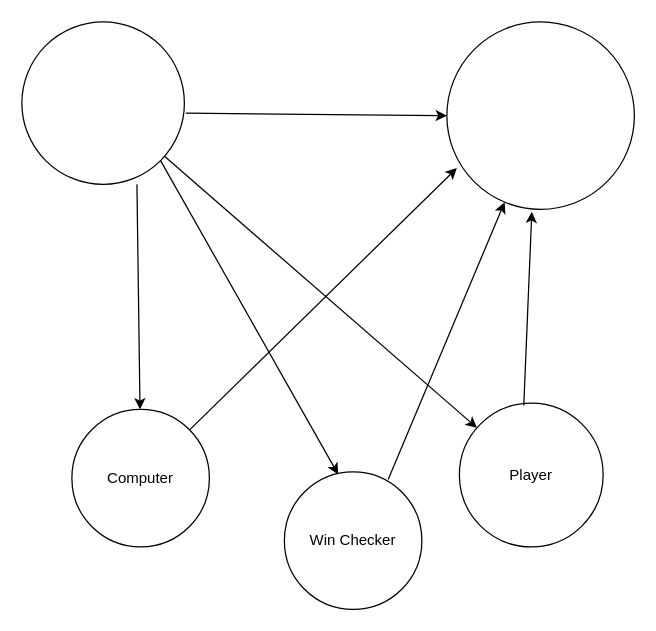
Some shapes in this 656 by 631 pixel diagram are drawn without their labels. Here are the shapes that lost their labels. From the top down, the centre of each, then its label:
At point (102, 102): "Gameplay".
At point (540, 115): "Board".
